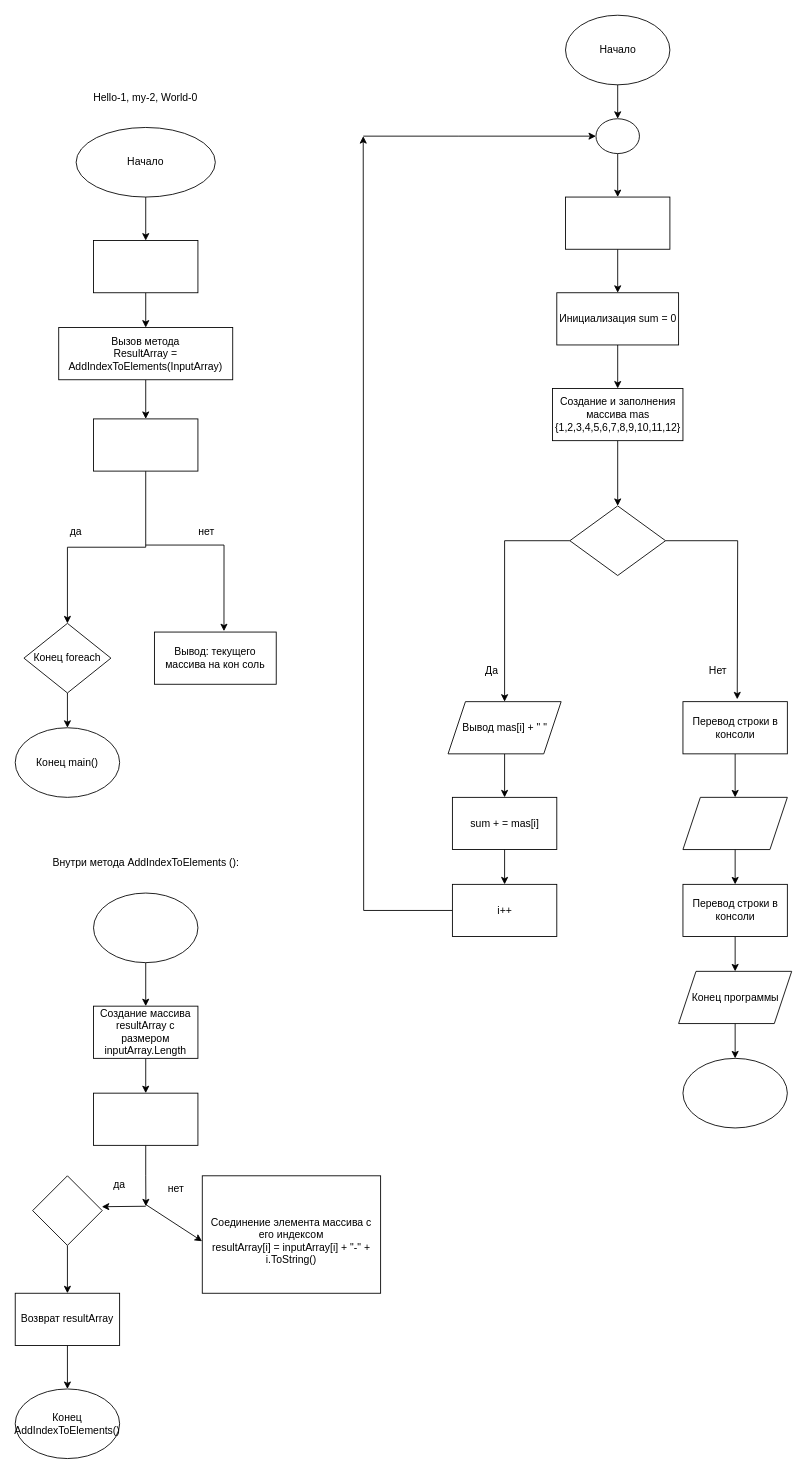
Some shapes in this 807 by 1474 pixel diagram are drawn without their labels. The centre of each missing label's shape, as x and y in pixels:
foreach для resultarray: point 145,444
i < mas.length: point 617,540
Вывести сумма "Сумма + sum": point 734,823
Вывод на экран массив: point 617,222
Конец: point 734,1092
Конец For: point 67,1210
Начало AddIndexToElements():: point 145,927
Начало for для индекса i от 0 до inputArray.Length: point 145,1118
создание массива InputArray: point 145,266
